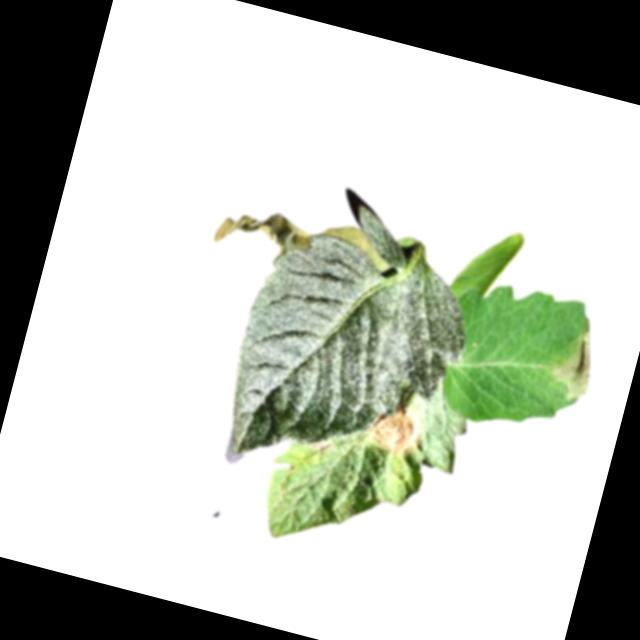Late_blight: (211, 198, 313, 269), (544, 316, 604, 404), (368, 400, 429, 459), (313, 438, 333, 457)
healthy: (215, 223, 483, 501)
